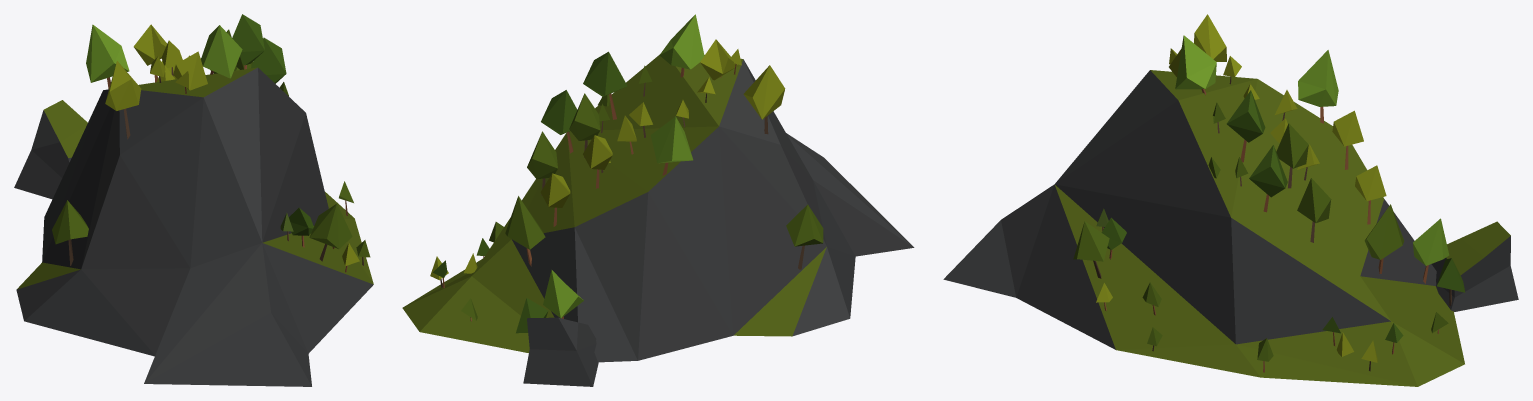
The model's file is Open Ocean Island 2.fbx.
The picture shows the model from 3 angles, left to right: view 1: azimuth 30°, elevation 25°; view 2: azimuth 150°, elevation 25°; view 3: azimuth 270°, elevation 25°; orthographic projection. The views are drawn at different scales.
Visible parts, largest first — view 1: Island 2, Trees 1.001; view 2: Island 2, Trees 1.001; view 3: Island 2, Trees 1.001.
Part boxes in pixels (x1=…): Island 2: x1=14, y1=67, x2=373, y2=386; Trees 1.001: x1=52, y1=14, x2=370, y2=272; Island 2: x1=402, y1=54, x2=914, y2=386; Trees 1.001: x1=430, y1=14, x2=823, y2=333; Island 2: x1=943, y1=70, x2=1518, y2=386; Trees 1.001: x1=1073, y1=14, x2=1465, y2=372.
Size of the model in its own units: 2452 by 1704 by 3395.
